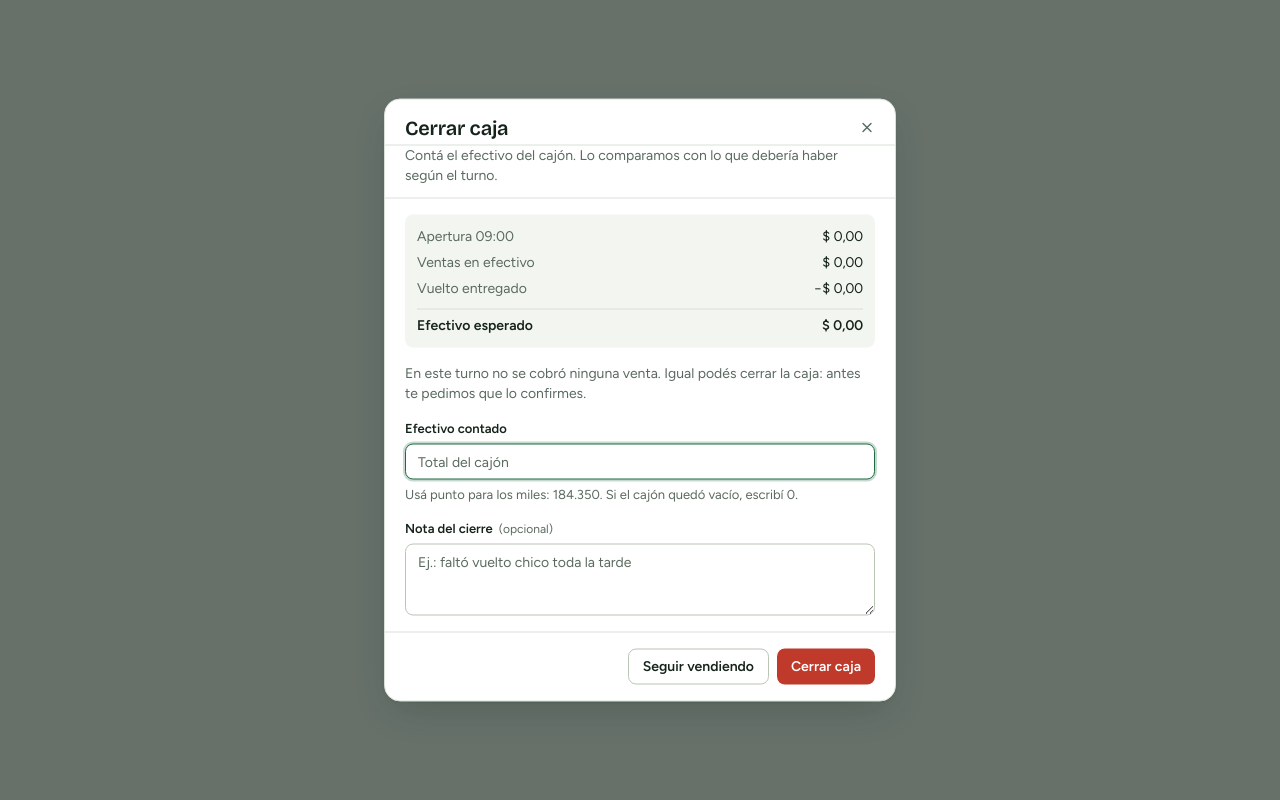
Test: CloseSessionDialog › con el efectivo contado vacío "Cerrar caja" no queda gris: explica qué escribir
The image size is (1280, 800).
Click the button "Cerrar caja".
click(826, 666)  # box [777, 648, 875, 684]
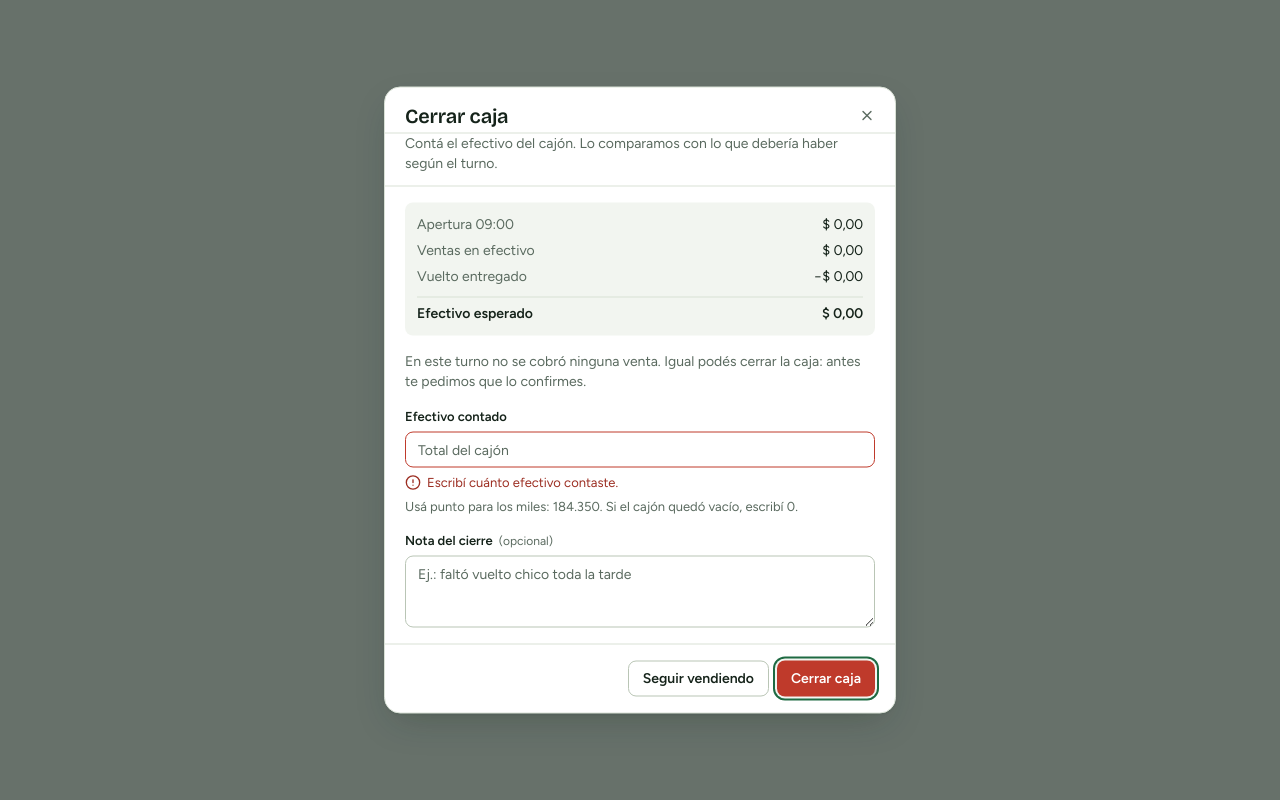
Check: the text "Si el cajón quedó vacío, escribí 0." is shown once, box [405, 498, 798, 514]
Check: the text "Escribí cuánto efectivo contaste." is shown, box [427, 474, 618, 492]
Type "mucho" into the field labelled "Efectivo contado".
click(640, 450); type("mucho")  # box [405, 432, 875, 468]
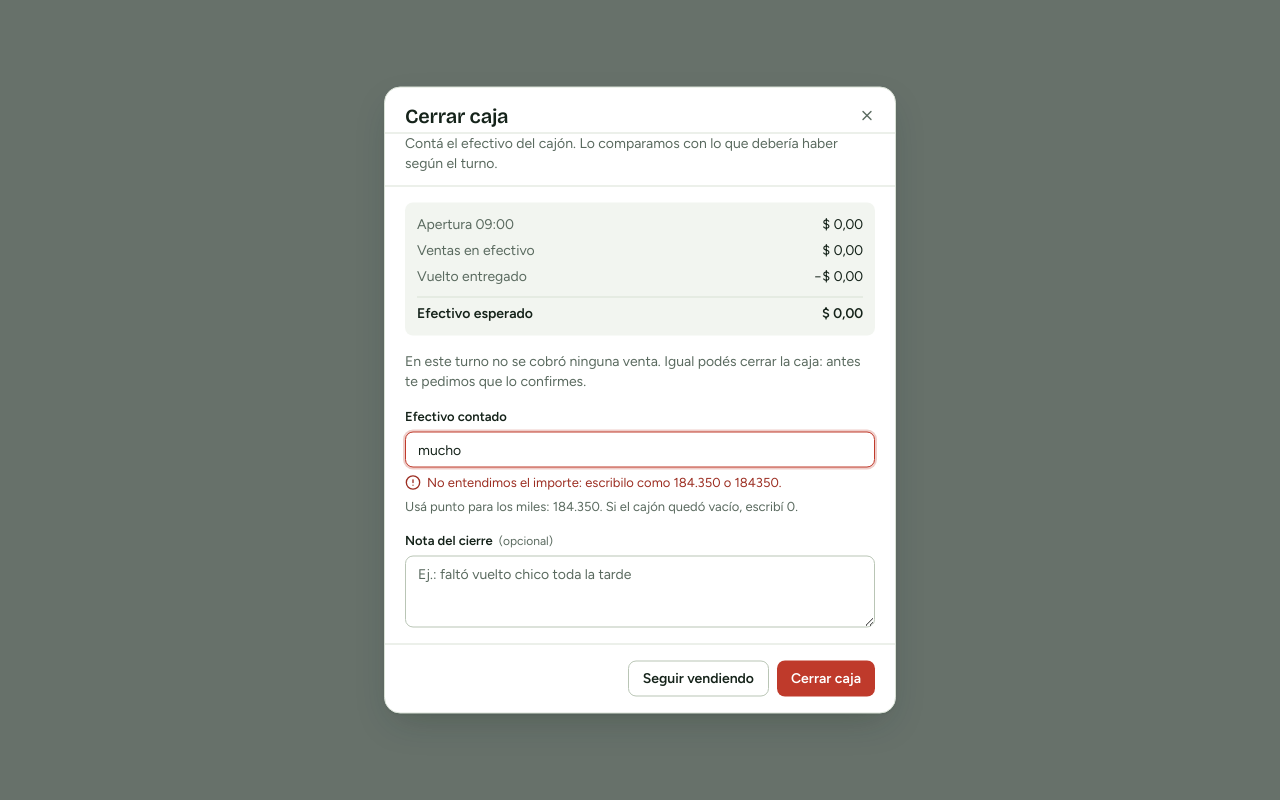
Check: the text "No entendimos el importe: escribilo como 184.350 o 184350." is shown, box [427, 474, 782, 492]
